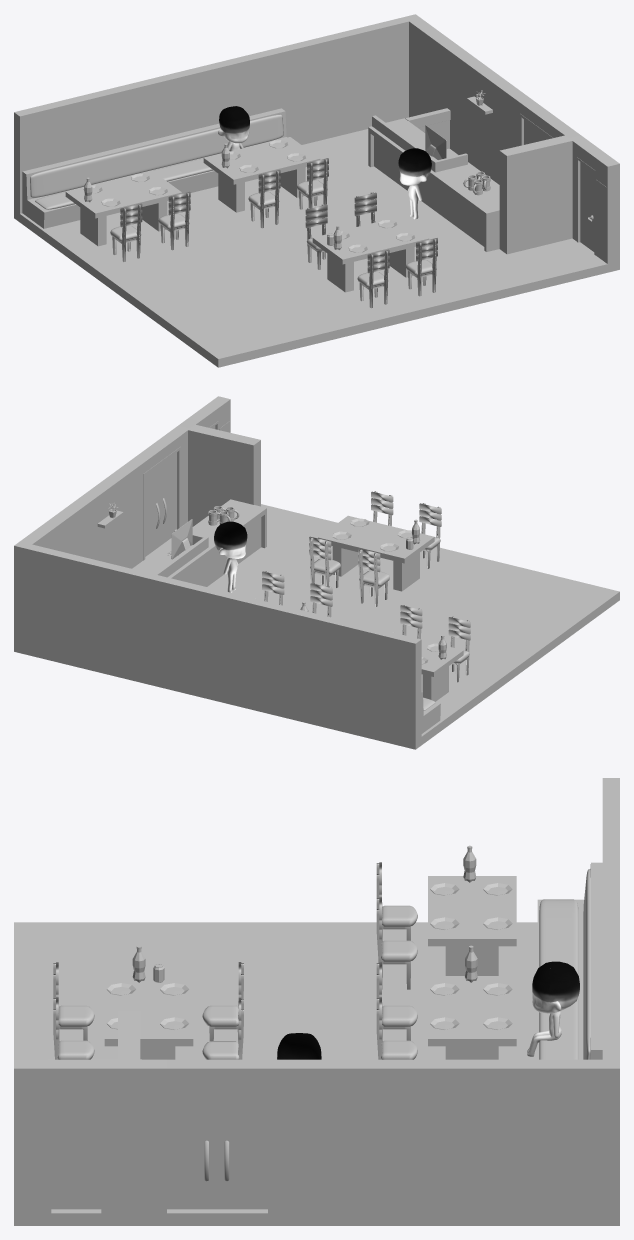
File: ot_npc.fbx
The picture shows the model from 3 angles, top to bottom: view 1: azimuth 30°, elevation 25°; view 2: azimuth 150°, elevation 25°; view 3: azimuth 270°, elevation 25°; orthographic projection. The views are drawn at different scales.
Visible parts, largest first — view 1: Box015, Box016, Object001, Object007; view 2: Box015, Box016, Object001; view 3: Box015, Box016, Object007, Object001.
Part boxes in pixels (left/top/right/bottom): Box015: left=14, top=14, right=619, bottom=367; Box016: left=22, top=90, right=606, bottom=308; Object001: left=398, top=148, right=431, bottom=219; Object007: left=218, top=106, right=249, bottom=151; Box015: left=14, top=396, right=619, bottom=749; Box016: left=97, top=421, right=470, bottom=733; Object001: left=214, top=521, right=247, bottom=592; Box015: left=14, top=778, right=619, bottom=1225; Box016: left=53, top=845, right=602, bottom=1059; Object007: left=527, top=961, right=579, bottom=1056; Object001: left=277, top=1033, right=321, bottom=1059.
Bounding box in the file's own units: 8.9 × 2.27 × 7.84.
